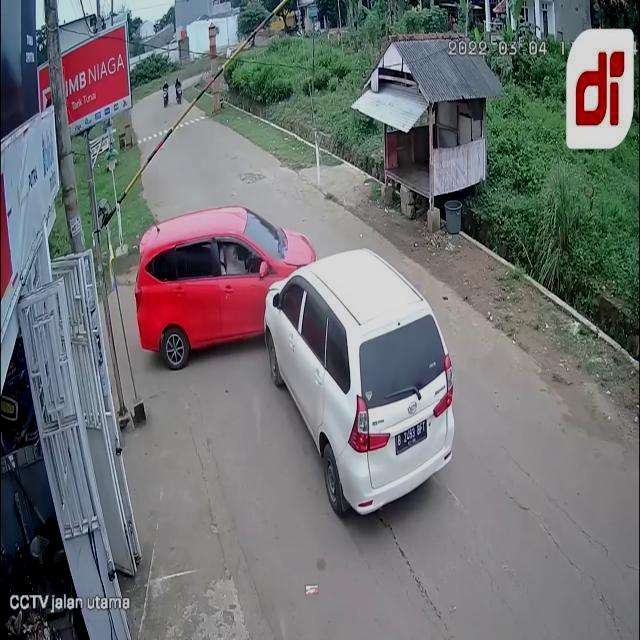accident: (136, 203, 456, 522)
